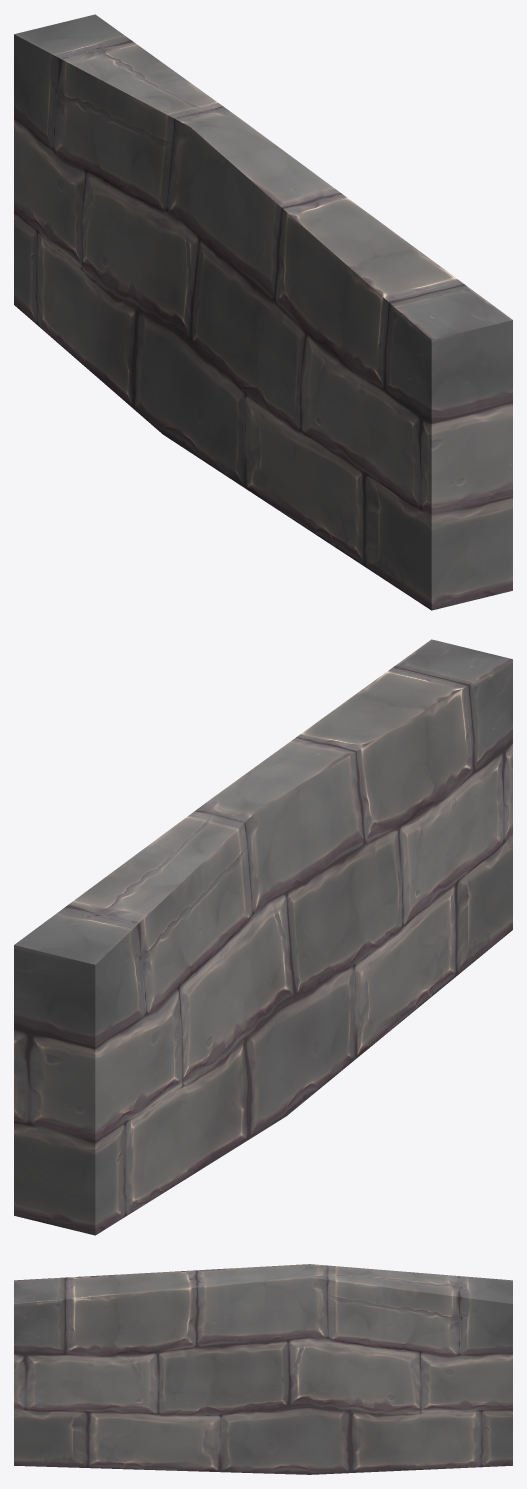
Rendered from SM_PROP_wall_stone_small_02.fbx.
The picture shows the model from 3 angles, top to bottom: view 1: azimuth 30°, elevation 25°; view 2: azimuth 150°, elevation 25°; view 3: azimuth 270°, elevation 25°; orthographic projection. The views are drawn at different scales.
Visible parts, largest first — view 1: SM_PROP_wall_stone_small_02; view 2: SM_PROP_wall_stone_small_02; view 3: SM_PROP_wall_stone_small_02.
Boxes of the visible parts, x1,y1,x2,y2 form: SM_PROP_wall_stone_small_02: (14,14,512,610); SM_PROP_wall_stone_small_02: (14,639,512,1235); SM_PROP_wall_stone_small_02: (14,1264,512,1474).
Bounding box in the file's own units: 54.91 × 118 × 297.
